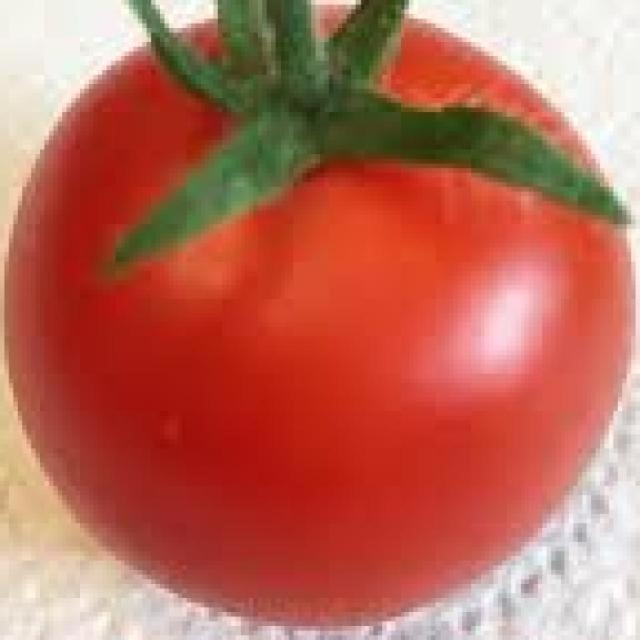Healthy Fruit: (6, 9, 406, 416)
